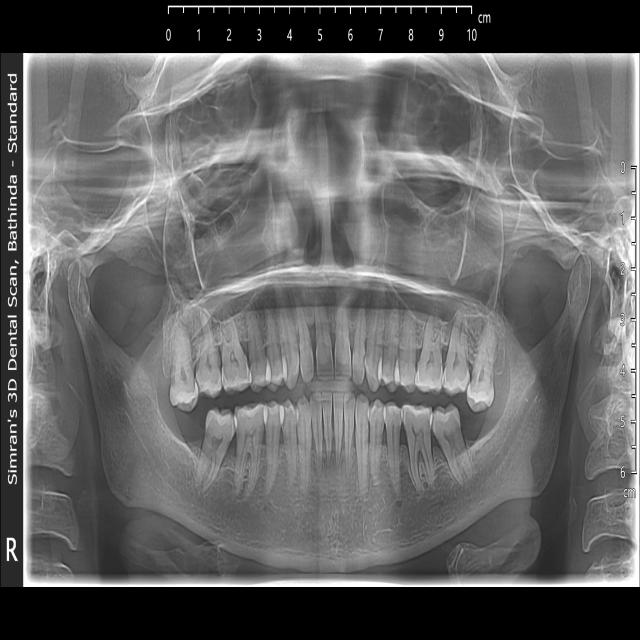Caries: (169, 360, 198, 411), (432, 407, 462, 446)
Missing teeth: (165, 420, 201, 464), (468, 412, 492, 457)
